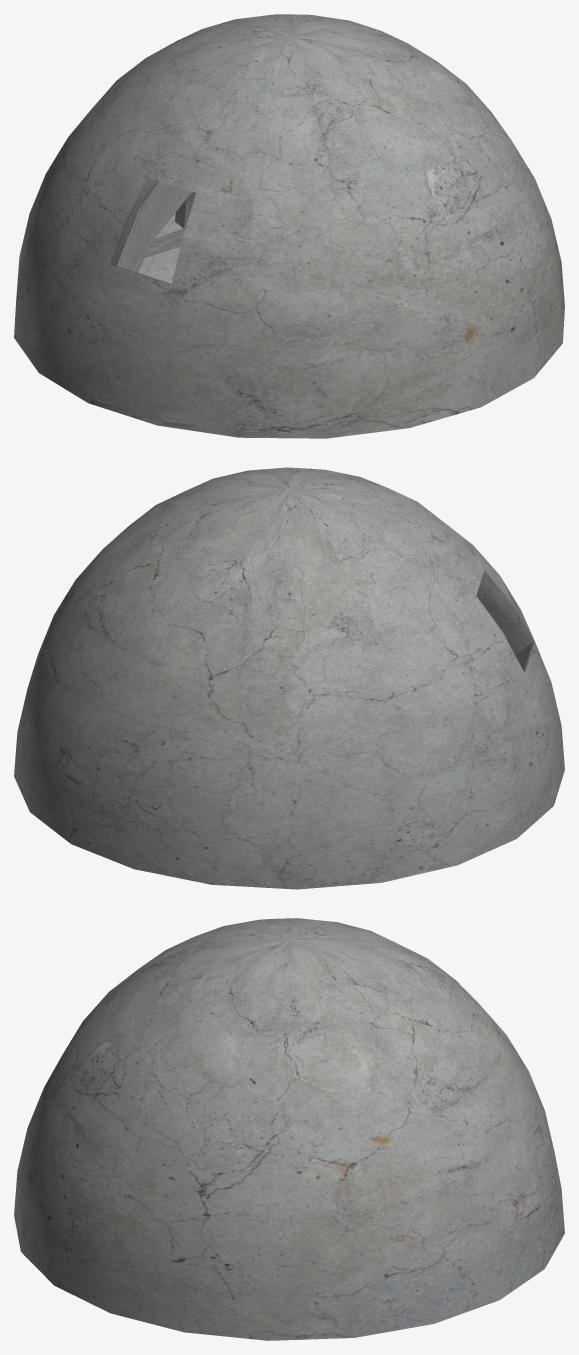
Rendered from mooninside.obj.
3 views of the same model, one above another, from view 1: azimuth 30°, elevation 25°; view 2: azimuth 150°, elevation 25°; view 3: azimuth 270°, elevation 25° (orthographic).
Visible parts, largest first — view 1: mooninside:pSphere3; view 2: mooninside:pSphere3; view 3: mooninside:pSphere3.
Part boxes in pixels (x1,y1,x2,y2): mooninside:pSphere3: (14, 14, 564, 438); mooninside:pSphere3: (14, 467, 564, 889); mooninside:pSphere3: (14, 918, 564, 1340).
Bounding box in the file's own units: 24.93 × 14.23 × 24.93.
Materials: 1 (1 with a texture image).
